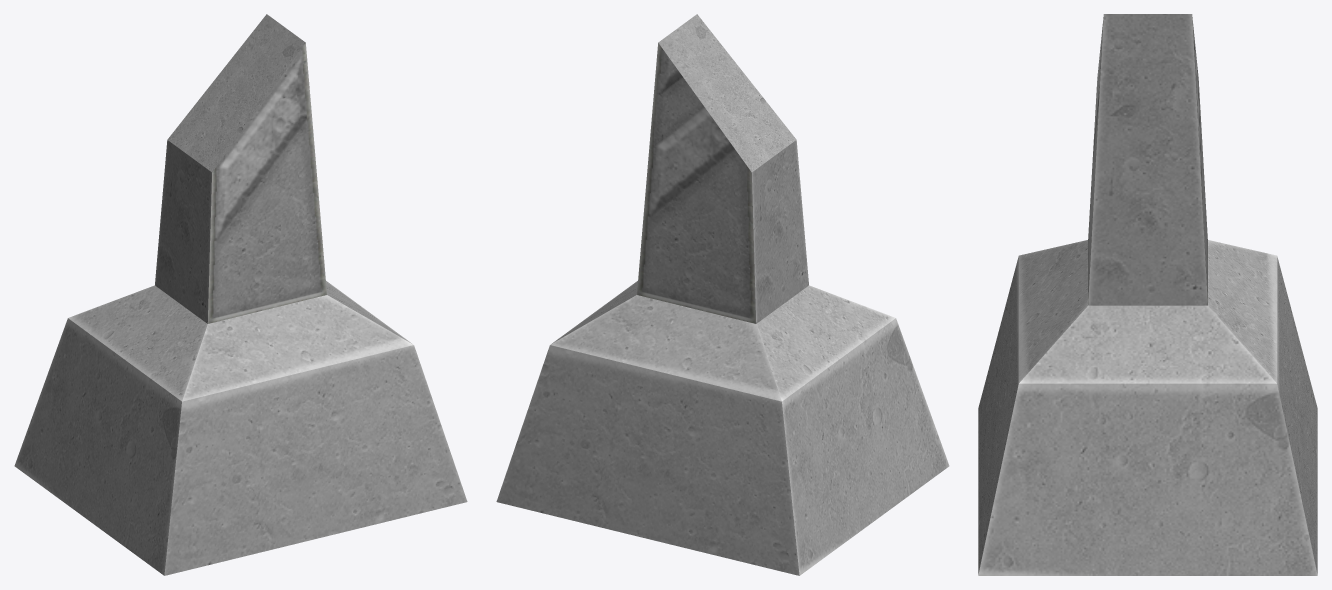
Rendered from grave4_brk1.FBX.
3 renders of one model, left to right at view 1: azimuth 30°, elevation 25°; view 2: azimuth 150°, elevation 25°; view 3: azimuth 270°, elevation 25°, orthographic. The views are drawn at different scales.
Parts seen in each view (by area): view 1: grave4_brk1; view 2: grave4_brk1; view 3: grave4_brk1.
Part boxes in pixels (x1,y1,x2,y2): grave4_brk1: [14, 14, 467, 575]; grave4_brk1: [496, 14, 949, 575]; grave4_brk1: [978, 14, 1317, 575].
Size of the model in its own units: 35 by 49.07 by 30.
